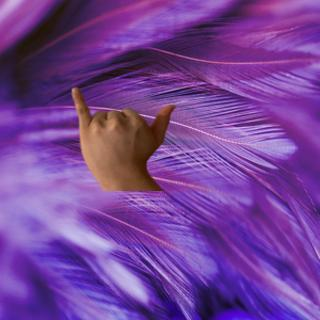HAVE: (63, 80, 177, 177)
